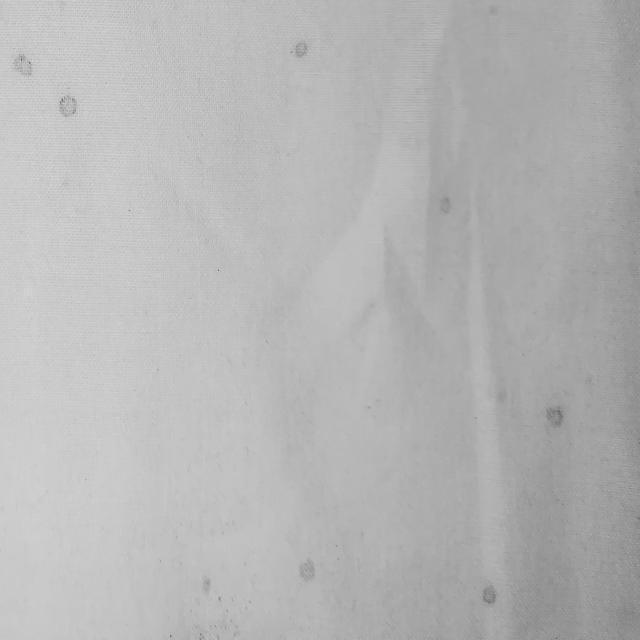Thread_other: (2, 47, 90, 135), (161, 536, 235, 604), (519, 390, 589, 445), (464, 572, 518, 614), (421, 182, 469, 224), (287, 552, 330, 594), (277, 30, 324, 66)
